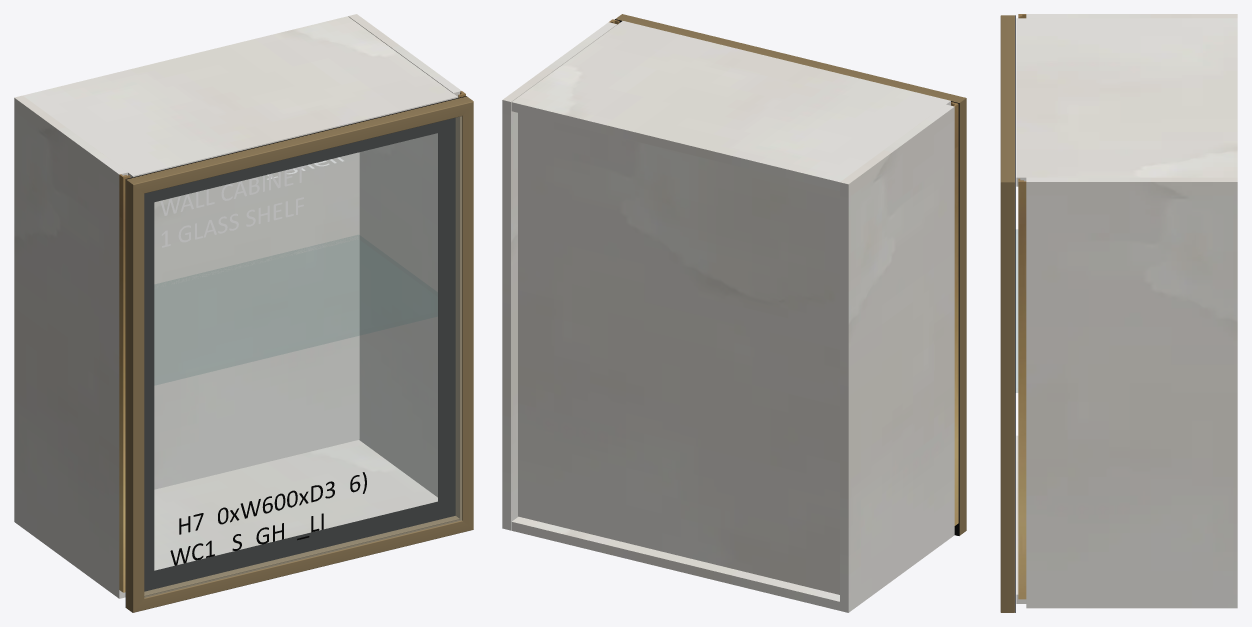
File: WC1GS1GHS_LH (H720 XW600 XD336).glb
3 views of the same model, side by side, from view 1: azimuth 30°, elevation 25°; view 2: azimuth 150°, elevation 25°; view 3: azimuth 270°, elevation 25° (orthographic).
Size of what is drawn, in the model's own units: 0.6 by 0.7185 by 0.366.
8 materials, 2 textured.
